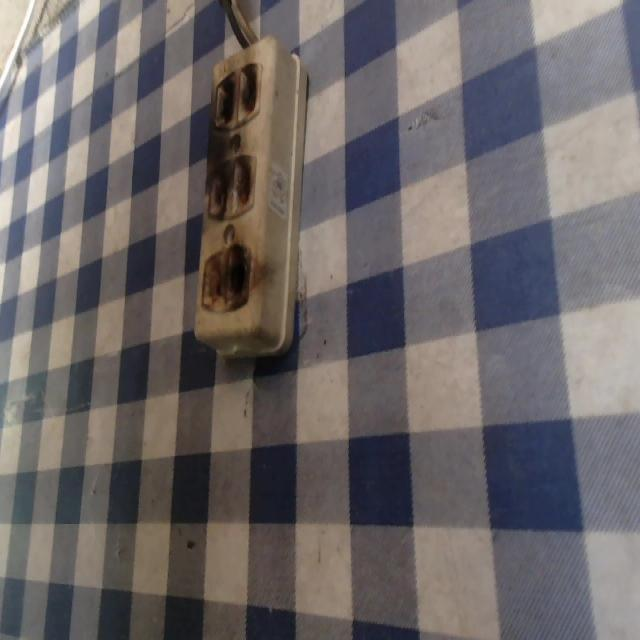-: (209, 56, 263, 131), (198, 241, 252, 316), (204, 149, 257, 219)
